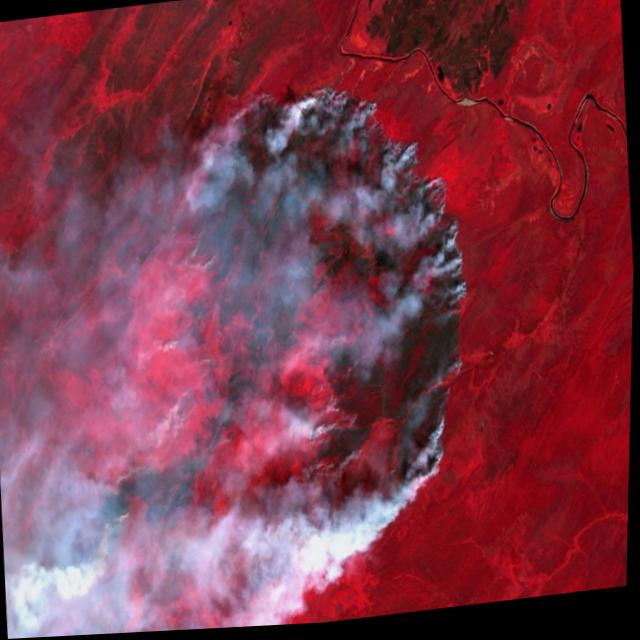fire: (51, 55, 495, 606)
